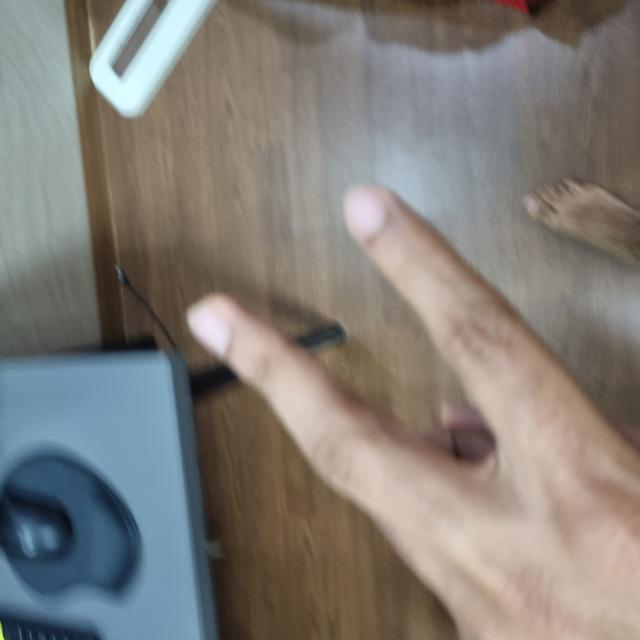Scissors: (0, 191, 445, 639)
